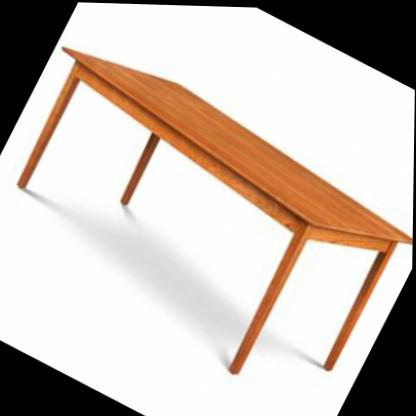Table: (0, 7, 416, 416)
